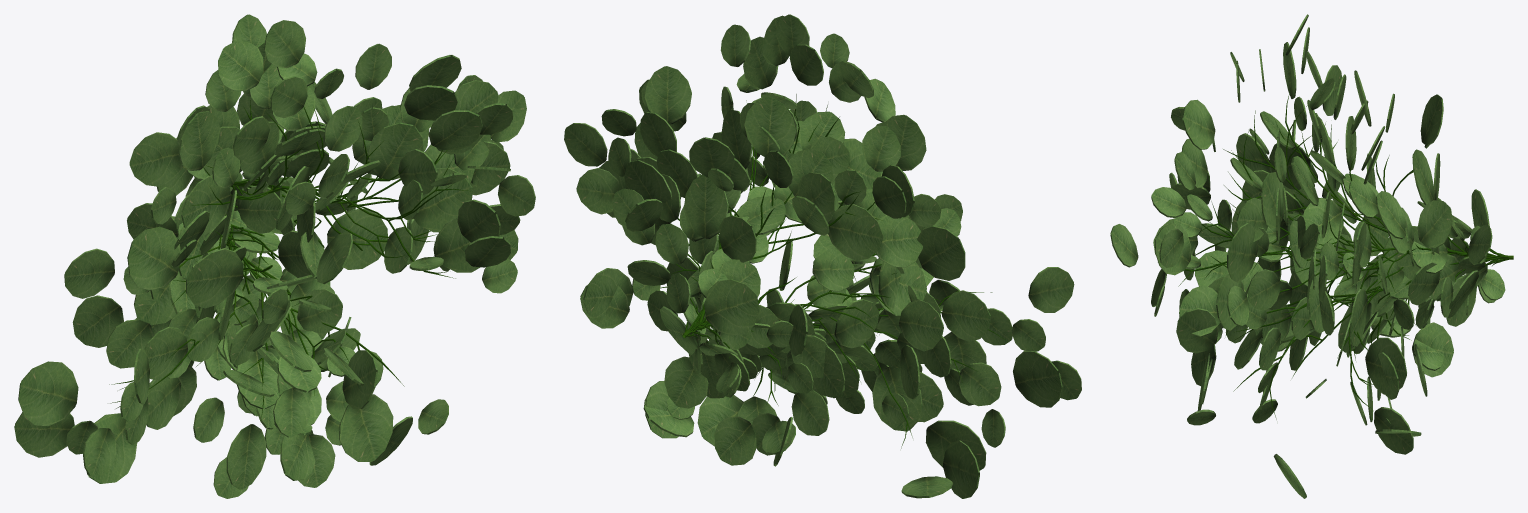
The model's file is plant31.obj.
3 renders of one model, left to right at view 1: azimuth 30°, elevation 25°; view 2: azimuth 150°, elevation 25°; view 3: azimuth 270°, elevation 25°, orthographic. The views are drawn at different scales.
Visible parts, largest first — view 1: leaves.014, tree.014; view 2: leaves.014, tree.014; view 3: leaves.014, tree.014.
Part boxes in pixels (x1,y1,x2,y2): leaves.014: [14, 14, 535, 498]; tree.014: [109, 100, 470, 419]; leaves.014: [564, 14, 1081, 498]; tree.014: [660, 94, 1006, 448]; leaves.014: [1110, 14, 1505, 498]; tree.014: [1178, 90, 1513, 419].
Bounding box in the file's own units: 0.5813 × 0.4906 × 0.4216.
Materials: 2 (2 with a texture image).
